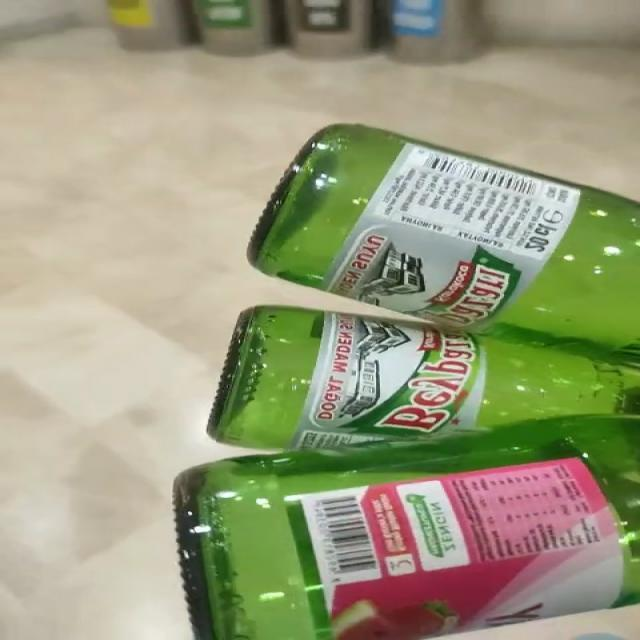Glass: (176, 124, 639, 640)
